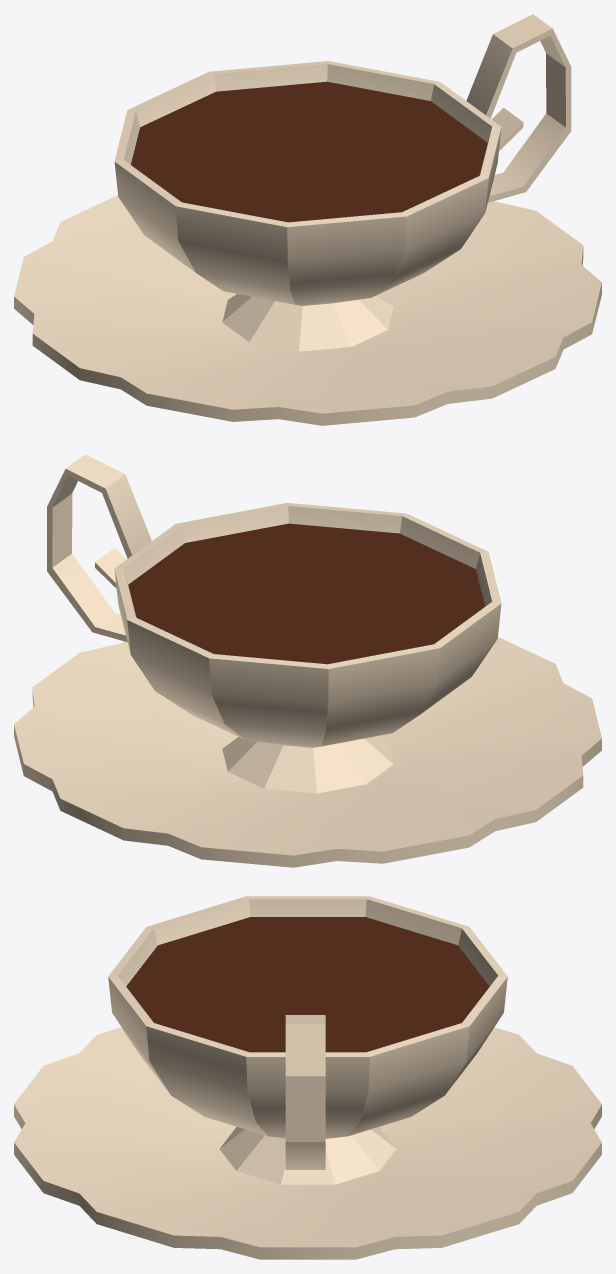
File: PW_tea_cup02.fbx
3 renders of one model, top to bottom at view 1: azimuth 30°, elevation 25°; view 2: azimuth 150°, elevation 25°; view 3: azimuth 270°, elevation 25°, orthographic.
Parts seen in each view (by area): view 1: plate, cup, coffee; view 2: plate, cup, coffee; view 3: plate, cup, coffee.
Boxes of the visible parts, x1,y1,x2,y2 form: plate: (14,195,601,425); cup: (114,14,571,351); coffee: (131,81,487,222); plate: (14,637,601,867); cup: (47,454,501,793); coffee: (128,523,484,664); plate: (14,1027,601,1259); cup: (108,896,507,1184); coffee: (126,917,489,1052).
Size of the model in its own units: 40.01 by 19.85 by 40.
1 material, 1 textured.
